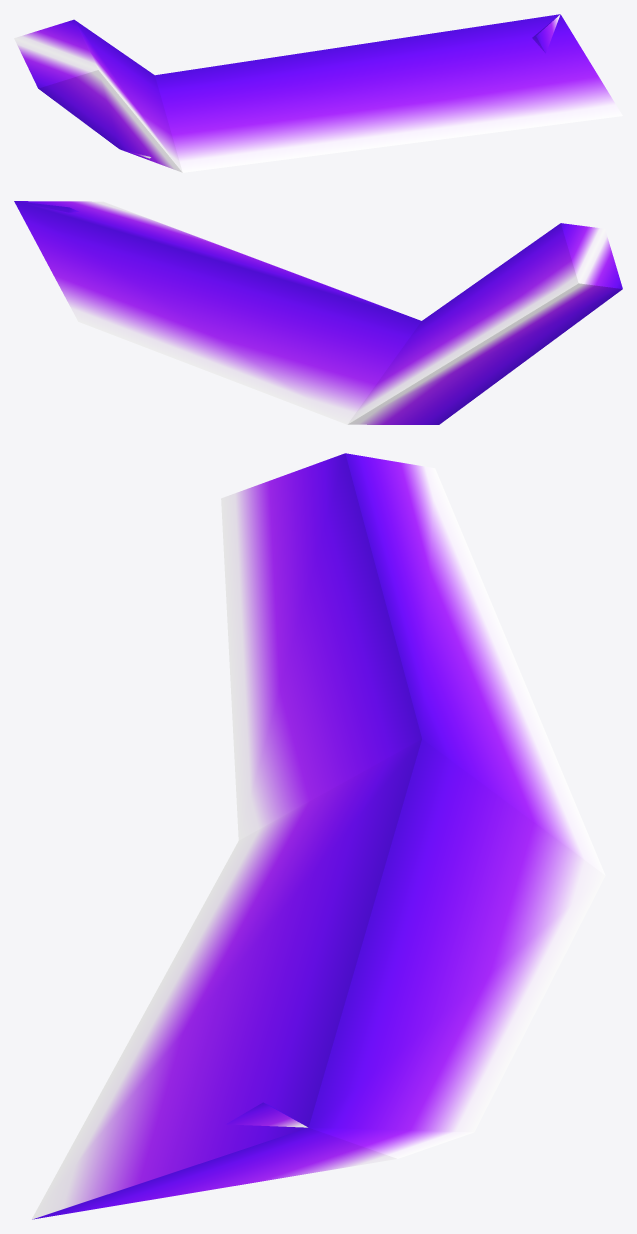
Rendered from lightning.glb.
The picture shows the model from 3 angles, top to bottom: view 1: azimuth 30°, elevation 25°; view 2: azimuth 150°, elevation 25°; view 3: azimuth 270°, elevation 25°; orthographic projection. The views are drawn at different scales.
Parts seen in each view (by area): view 1: Lightning; view 2: Lightning; view 3: Lightning.
Part boxes in pixels (box(x1,y1,x2,y2)): Lightning: box(14, 14, 622, 172); Lightning: box(14, 201, 622, 424); Lightning: box(31, 453, 605, 1219).
Bounding box in the file's own units: 0.000641 × 0.000199 × 0.000305.
1 material, 1 textured.
